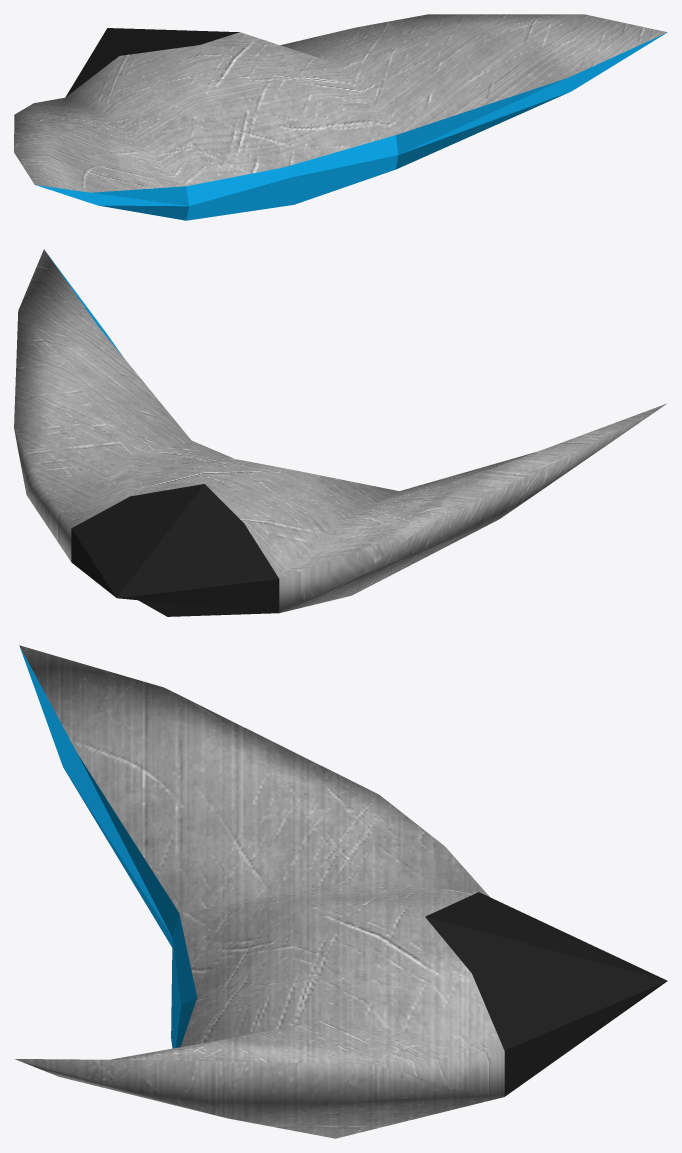
File: ship.obj
3 renders of one model, top to bottom at view 1: azimuth 30°, elevation 25°; view 2: azimuth 150°, elevation 25°; view 3: azimuth 270°, elevation 25°, orthographic. The views are drawn at different scales.
Visible parts, largest first — view 1: Cube_Cube_Metal, Cube_Cube_Metal_blue.png, Cube_Cube_Metal_black.png; view 2: Cube_Cube_Metal, Cube_Cube_Metal_black.png; view 3: Cube_Cube_Metal, Cube_Cube_Metal_black.png, Cube_Cube_Metal_blue.png.
Part boxes in pixels (<box>): Cube_Cube_Metal: <box>14,14,667,192</box>; Cube_Cube_Metal_blue.png: <box>36,33,666,220</box>; Cube_Cube_Metal_black.png: <box>66,28,239,96</box>; Cube_Cube_Metal: <box>14,249,666,612</box>; Cube_Cube_Metal_black.png: <box>71,484,279,616</box>; Cube_Cube_Metal: <box>15,645,504,1138</box>; Cube_Cube_Metal_black.png: <box>425,892,667,1096</box>; Cube_Cube_Metal_blue.png: <box>19,646,197,1048</box>.
Size of the model in its own units: 6.02 by 1.66 by 4.02.
3 materials, 3 textured.
